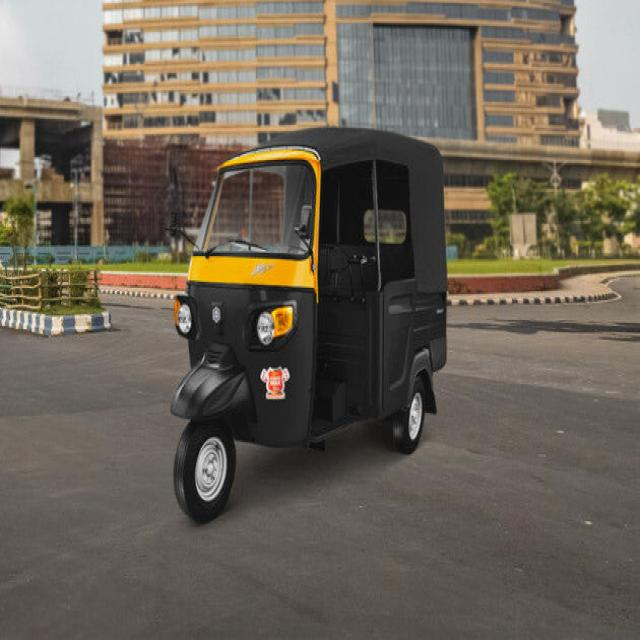autorickshaw: (171, 128, 447, 520)
